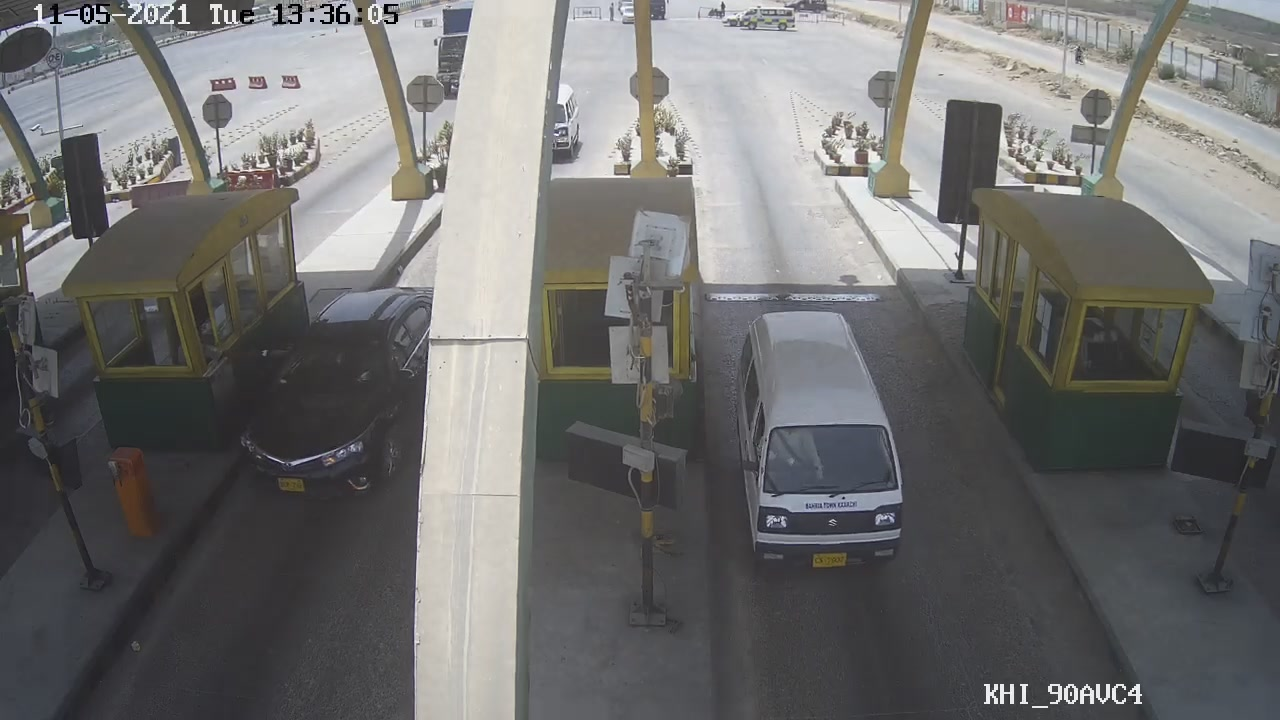F1: (725, 312, 911, 586)
